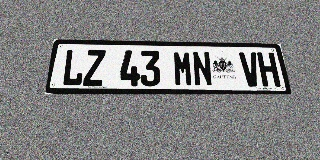3: (140, 50, 160, 86)
4: (120, 50, 140, 86)
H: (257, 52, 281, 87)
L: (61, 49, 86, 86)
M: (173, 51, 194, 86)
N: (192, 51, 213, 86)
V: (239, 52, 262, 87)
Z: (83, 50, 106, 86)
